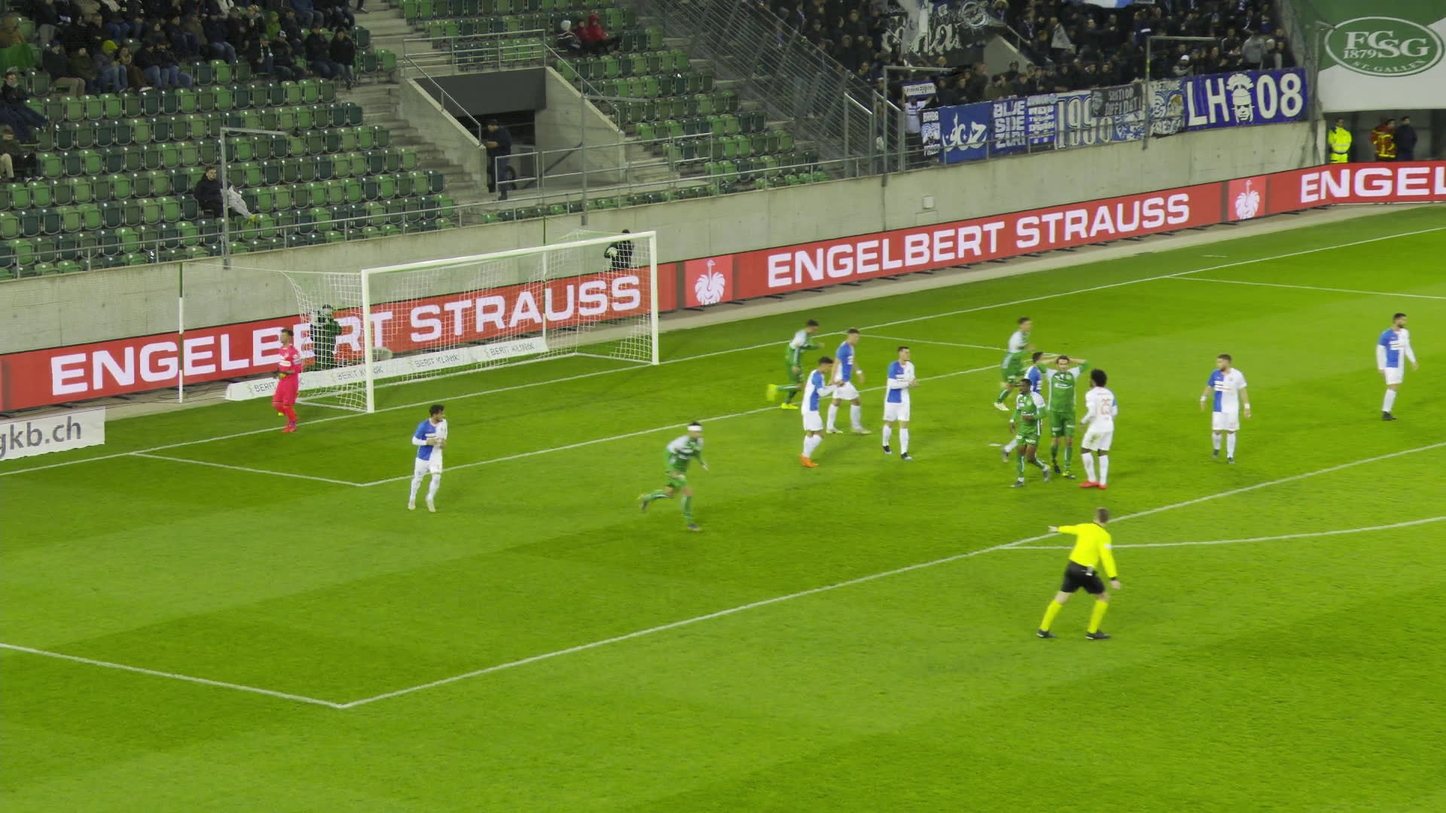player: (643, 422, 709, 526), (1034, 352, 1085, 479), (783, 357, 841, 466), (1194, 354, 1250, 464), (755, 316, 817, 410), (1005, 378, 1054, 489), (1000, 352, 1045, 464), (1075, 368, 1116, 490), (980, 315, 1031, 406), (1373, 312, 1414, 420), (408, 406, 449, 512), (882, 344, 920, 458), (271, 324, 308, 433), (826, 327, 863, 434)
referee: (1039, 506, 1124, 639)
